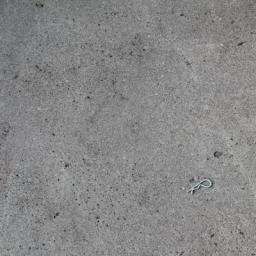FOD: (187, 177, 215, 196)
